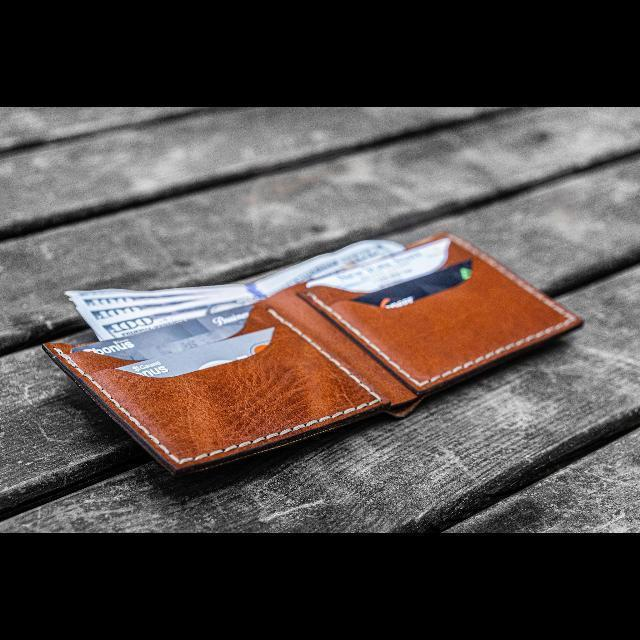wallet: (39, 233, 584, 464)
